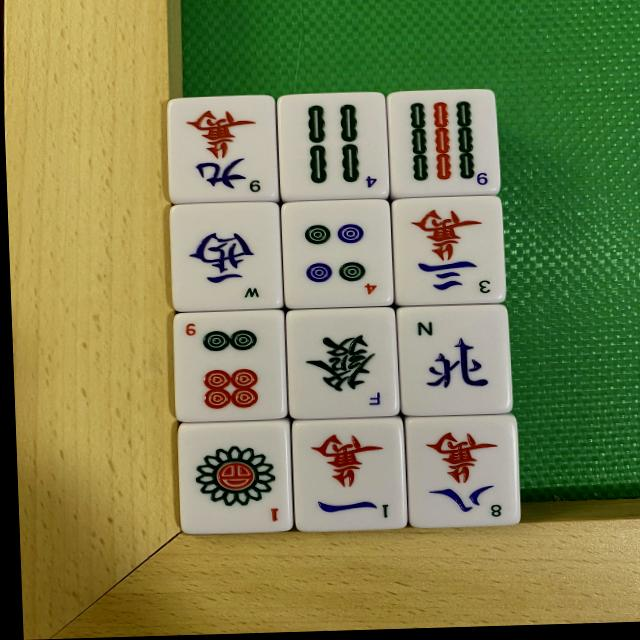fa: (288, 307, 404, 421)
m1: (293, 419, 411, 534)
m3: (391, 197, 504, 310)
m8: (403, 418, 519, 534)
m9: (163, 95, 275, 202)
north: (396, 304, 510, 418)
s4: (281, 92, 392, 200)
s9: (387, 90, 498, 198)
t1: (172, 416, 289, 532)
t4: (288, 199, 399, 312)
t6: (173, 310, 288, 421)
west: (170, 204, 283, 314)
